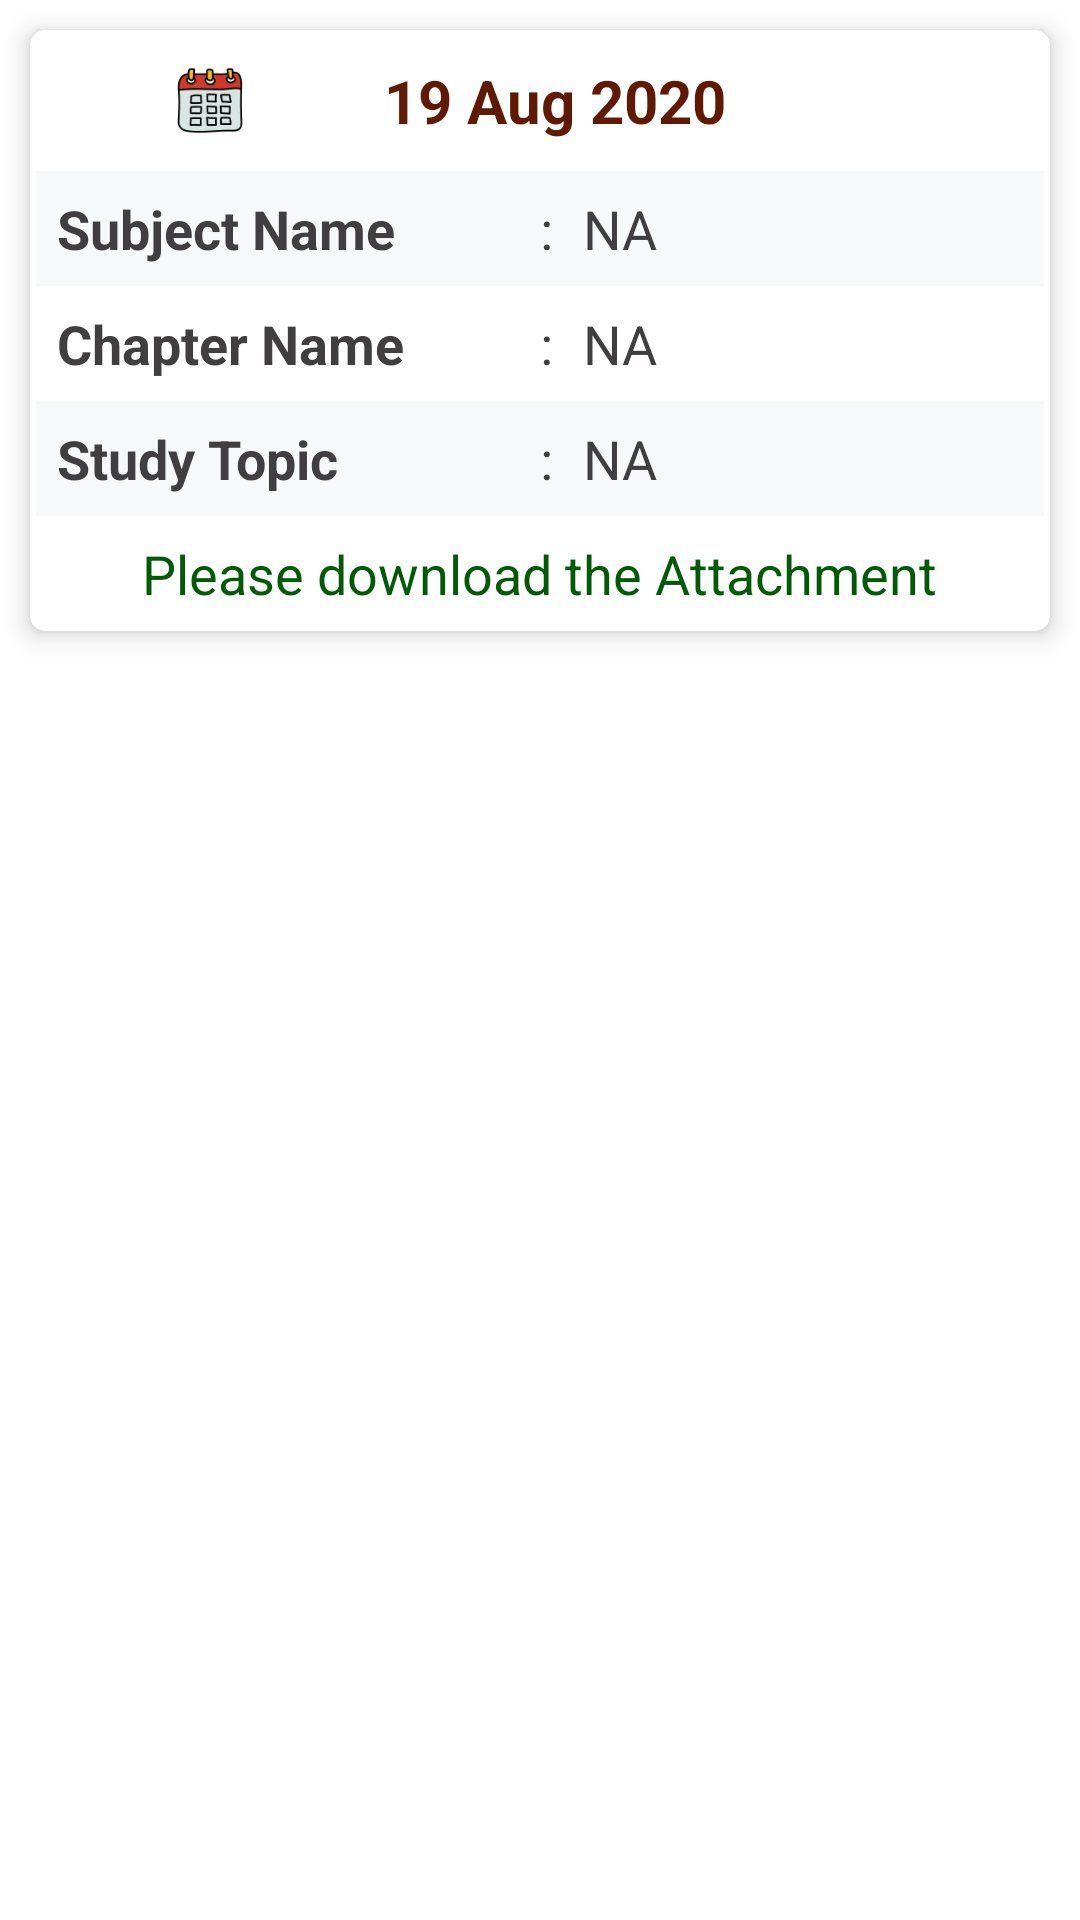

Icon click points for this 1080px x 1920px phone screenshot, format [x,y]:
calendar: [210,100]
